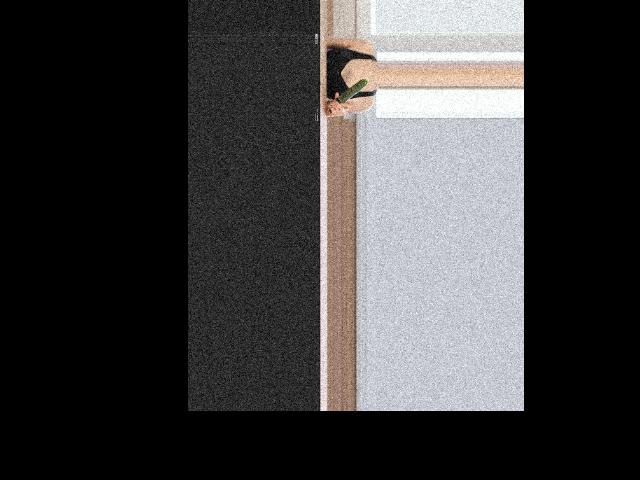cucumber: (328, 79, 368, 113)
